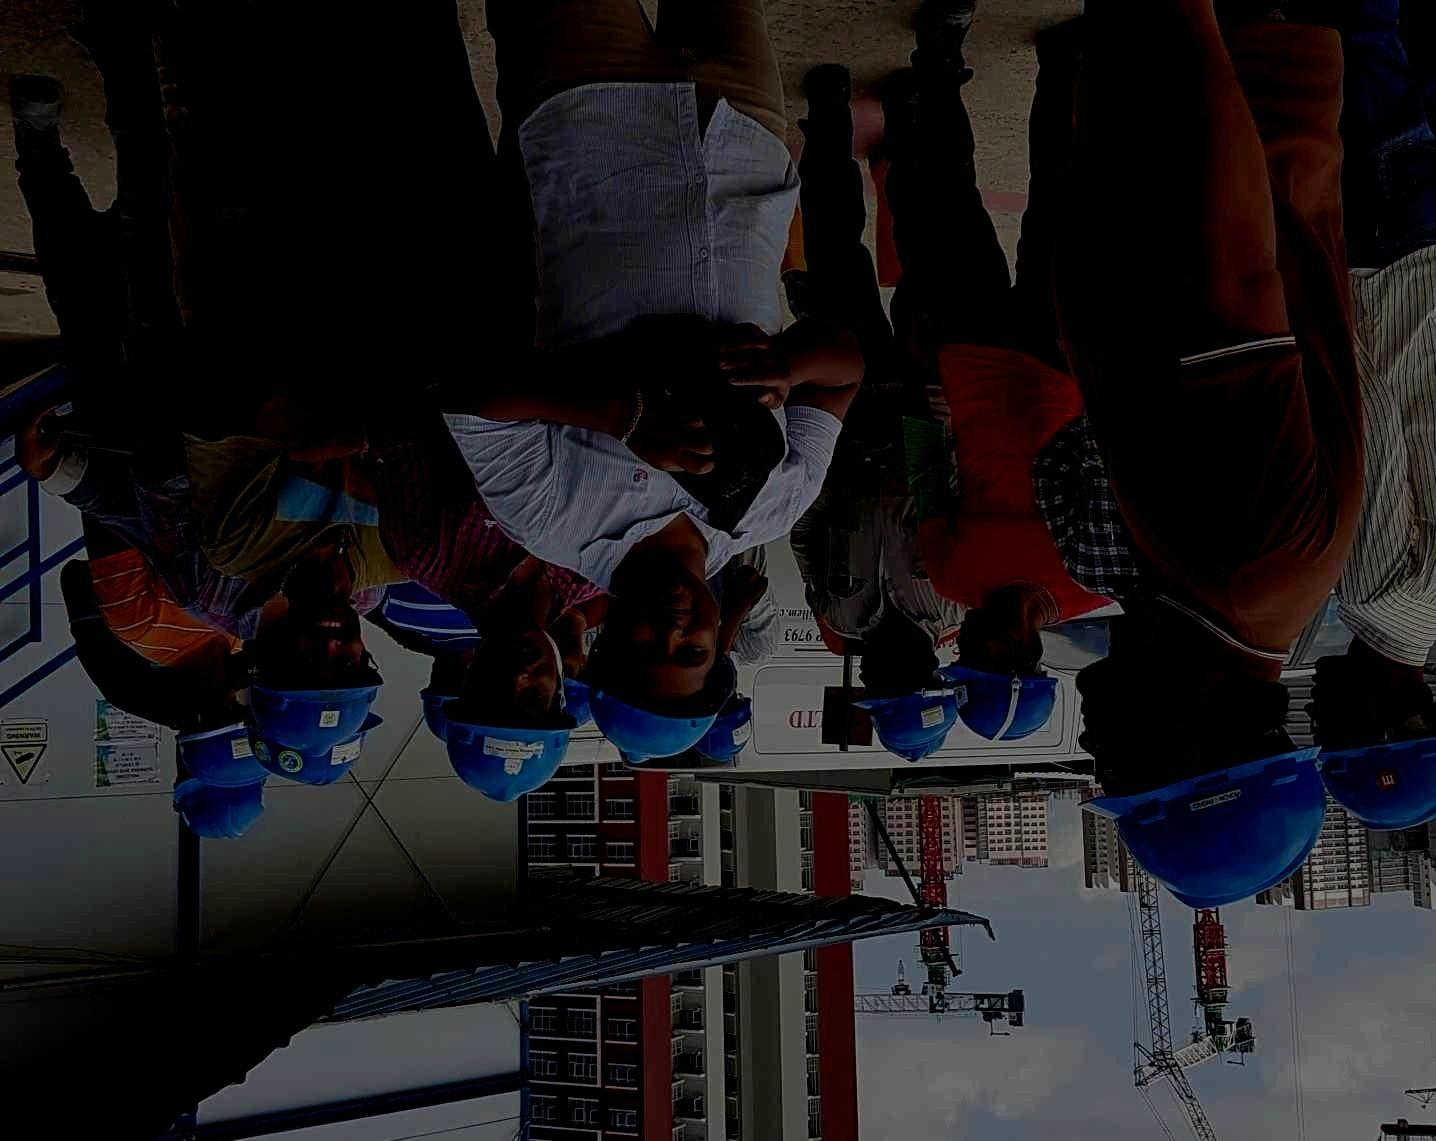helmet: (1076, 661, 1326, 909), (586, 562, 720, 763), (439, 631, 594, 804), (1304, 655, 1436, 831), (246, 596, 383, 758), (938, 608, 1060, 742), (849, 624, 959, 763), (248, 712, 385, 788), (173, 695, 272, 787), (173, 765, 267, 841), (694, 695, 753, 761), (418, 656, 462, 741), (562, 636, 594, 728)
